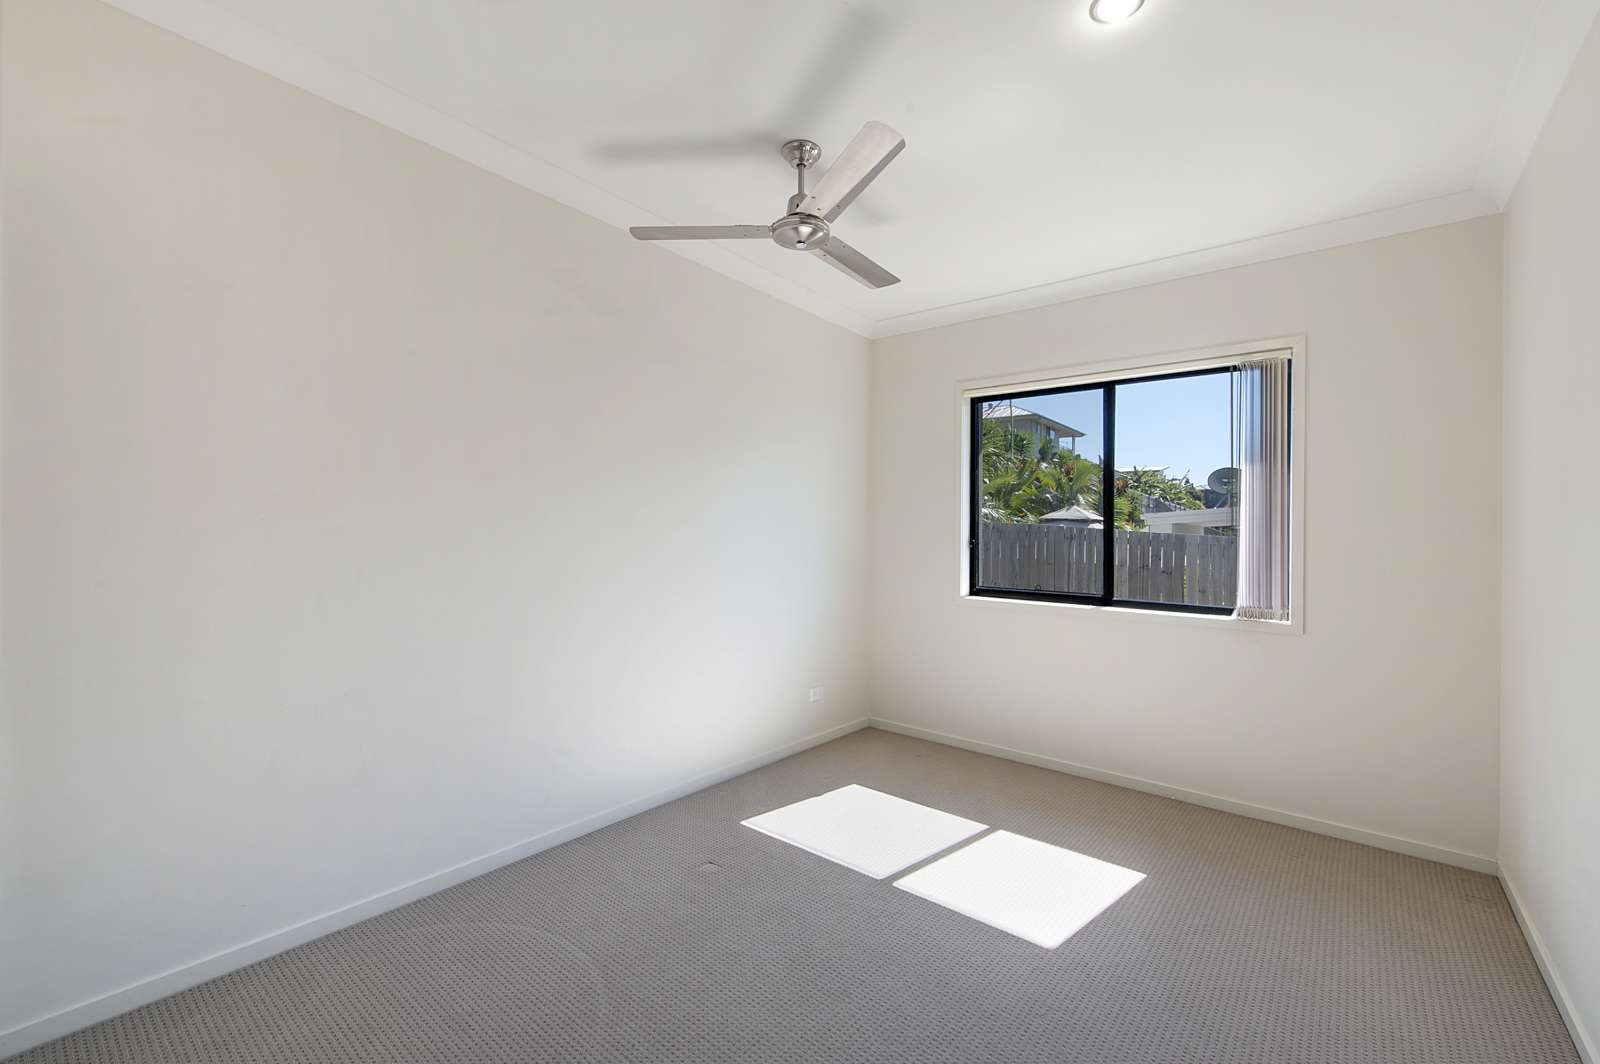ceiling fan: (590, 99, 959, 313)
